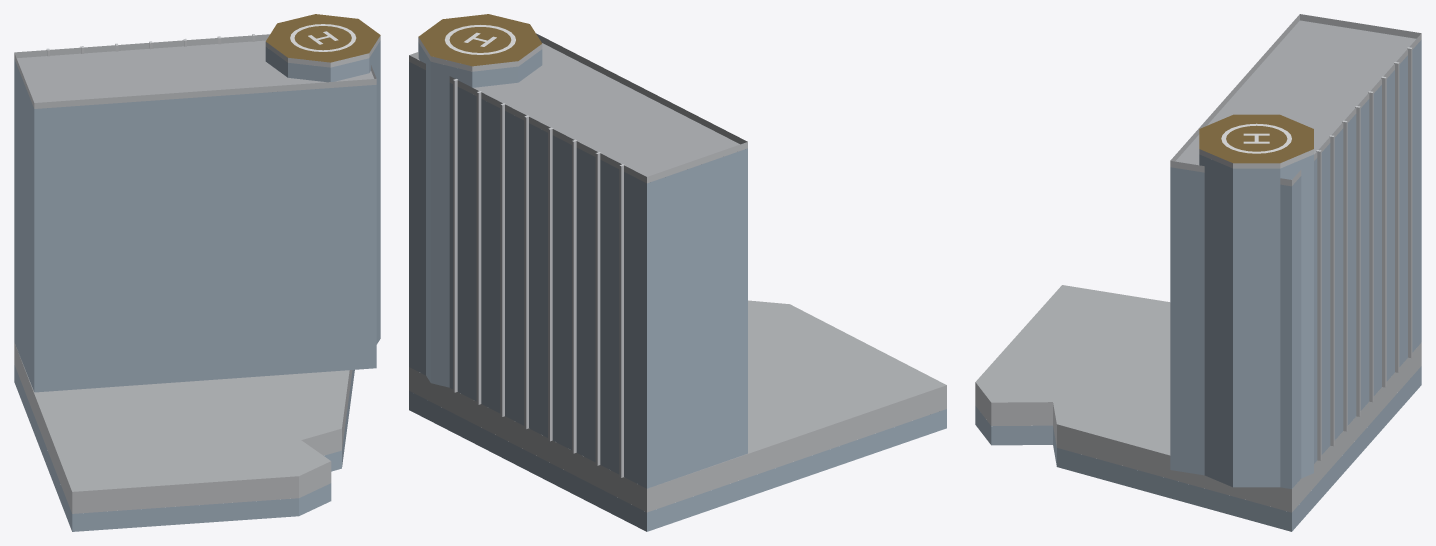
File: pathq.glb
3 views of the same model, side by side, from view 1: azimuth 30°, elevation 25°; view 2: azimuth 150°, elevation 25°; view 3: azimuth 270°, elevation 25° (orthographic). The views are drawn at different scales.
Visible parts, largest first — view 1: pathq; view 2: pathq; view 3: pathq.
Boxes of the visible parts, x1=… form: pathq: x1=14, y1=14, x2=380, y2=531; pathq: x1=409, y1=14, x2=946, y2=531; pathq: x1=975, y1=14, x2=1421, y2=531.
Bounding box in the file's own units: 81.89 × 68.66 × 75.59.
